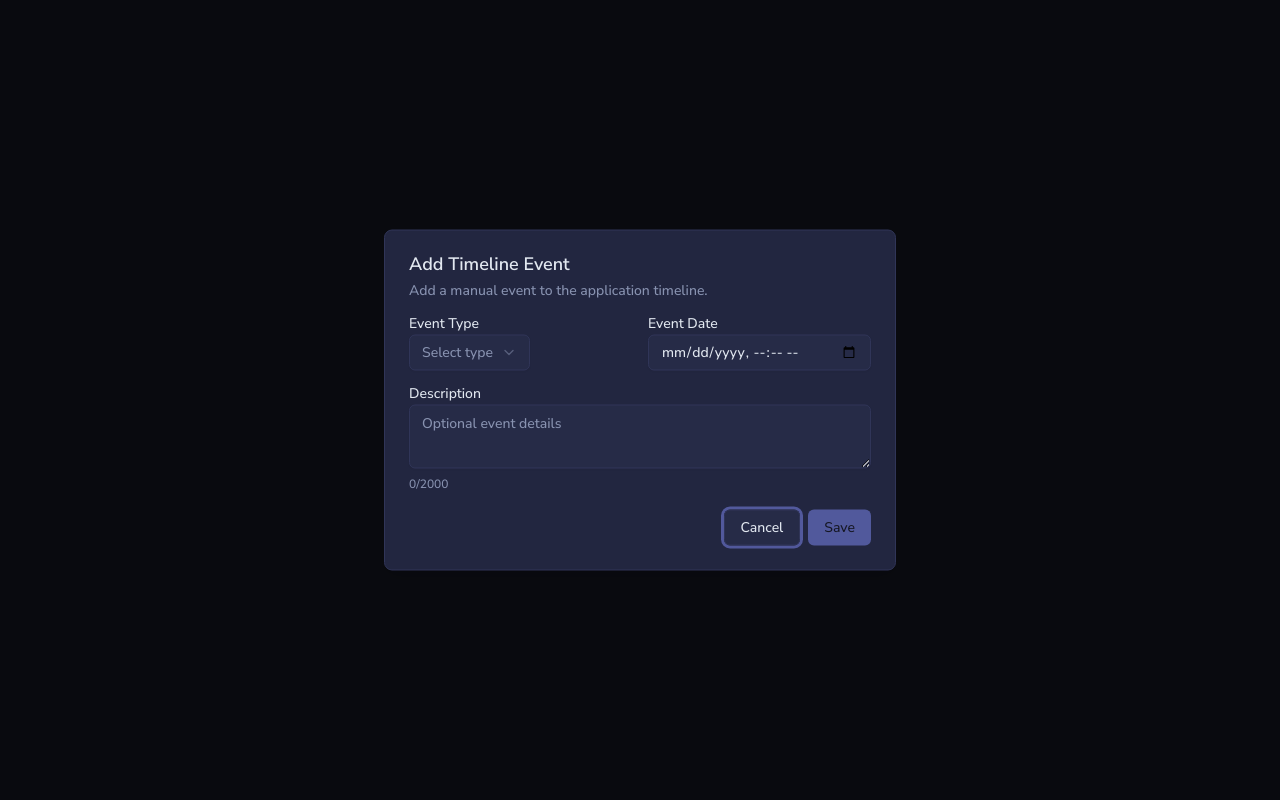
it: AddTimelineEventDialog › event type options › shows only manual event types in dropdown
Click the dropdown with test id "event-type-select". click: {"x": 470, "y": 352}
box: x1=409 y1=334 x2=530 y2=370
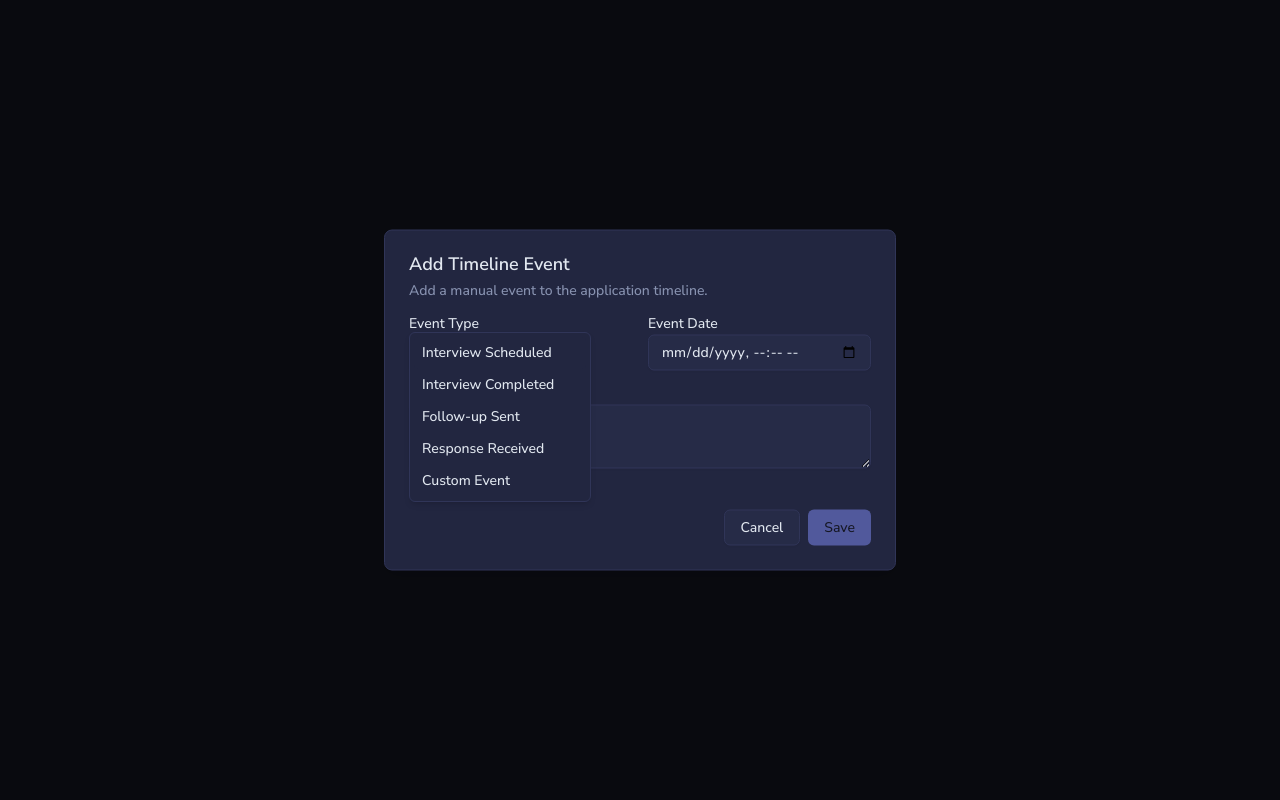
Now the option "Interview Scheduled" is shown, box x1=414 y1=336 x2=586 y2=368
Now the option "Interview Completed" is shown, box x1=422 y1=374 x2=554 y2=394
Now the option "Follow-up Sent" is shown, box x1=422 y1=406 x2=520 y2=426
